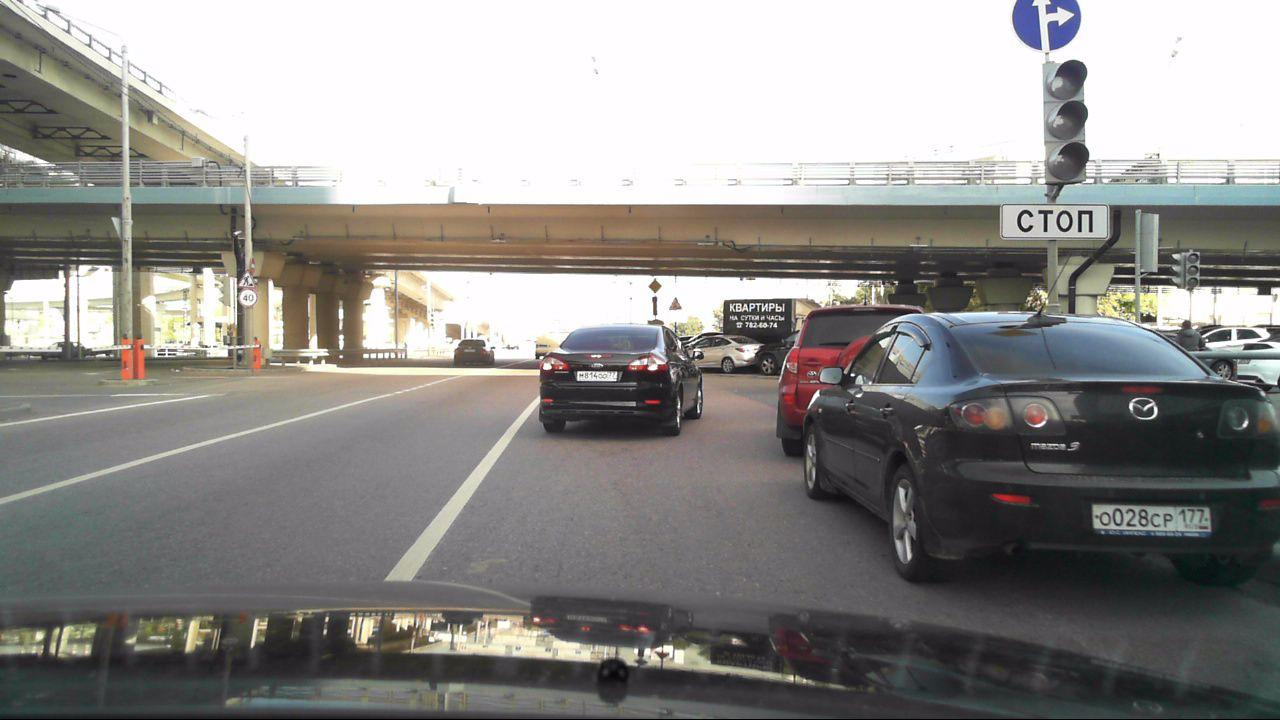1_25: (239, 269, 256, 288)
2_1: (648, 278, 661, 294)
3_1: (250, 258, 257, 273)
3_24: (238, 288, 258, 308)
4_1_4: (1007, 0, 1084, 54)
6_16: (998, 201, 1111, 239)
